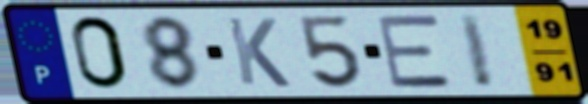0: (67, 14, 132, 93)
5: (294, 14, 365, 90)
8: (138, 13, 204, 93)
E: (373, 13, 457, 90)
I: (454, 11, 498, 91)
K: (222, 15, 294, 90)
